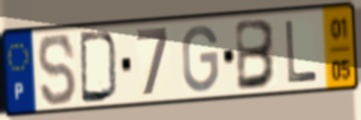7: (133, 25, 172, 100)
B: (234, 18, 279, 94)
D: (78, 30, 121, 106)
G: (180, 23, 220, 95)
L: (283, 18, 320, 85)
S: (36, 31, 79, 109)
